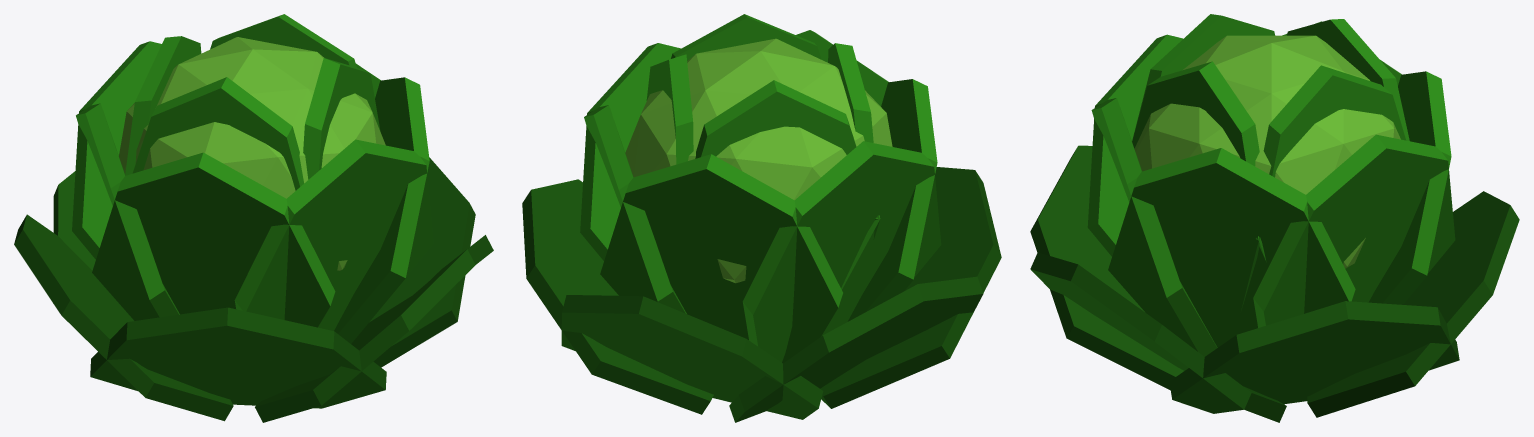
File: myw_cabbage.obj
3 views of the same model, side by side, from view 1: azimuth 30°, elevation 25°; view 2: azimuth 150°, elevation 25°; view 3: azimuth 270°, elevation 25° (orthographic).
Visible parts, largest first — view 1: Cabbage; view 2: Cabbage; view 3: Cabbage.
Part boxes in pixels (bbox=[...]): Cabbage: bbox=[14, 14, 493, 422]; Cabbage: bbox=[522, 14, 1001, 422]; Cabbage: bbox=[1030, 14, 1519, 422].
Size of the model in its own units: 2.09 by 1.64 by 2.1.
